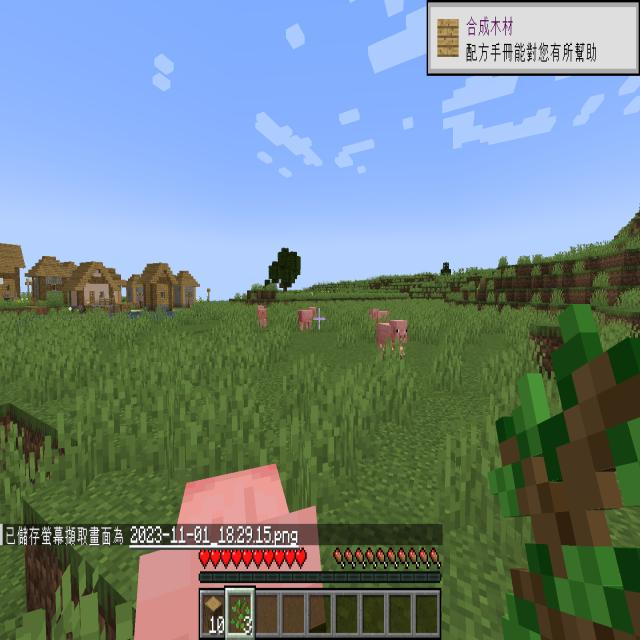pig: (129, 444, 348, 640), (371, 315, 416, 365), (294, 290, 320, 340), (254, 295, 274, 335), (367, 304, 394, 332)
